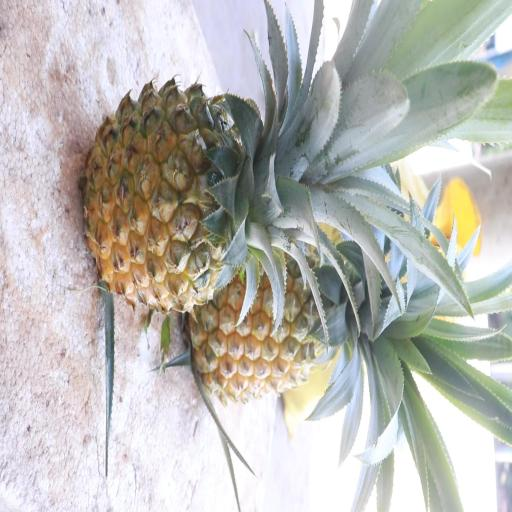Pineapple - v8 v1: (79, 69, 325, 324), (184, 217, 396, 410)
